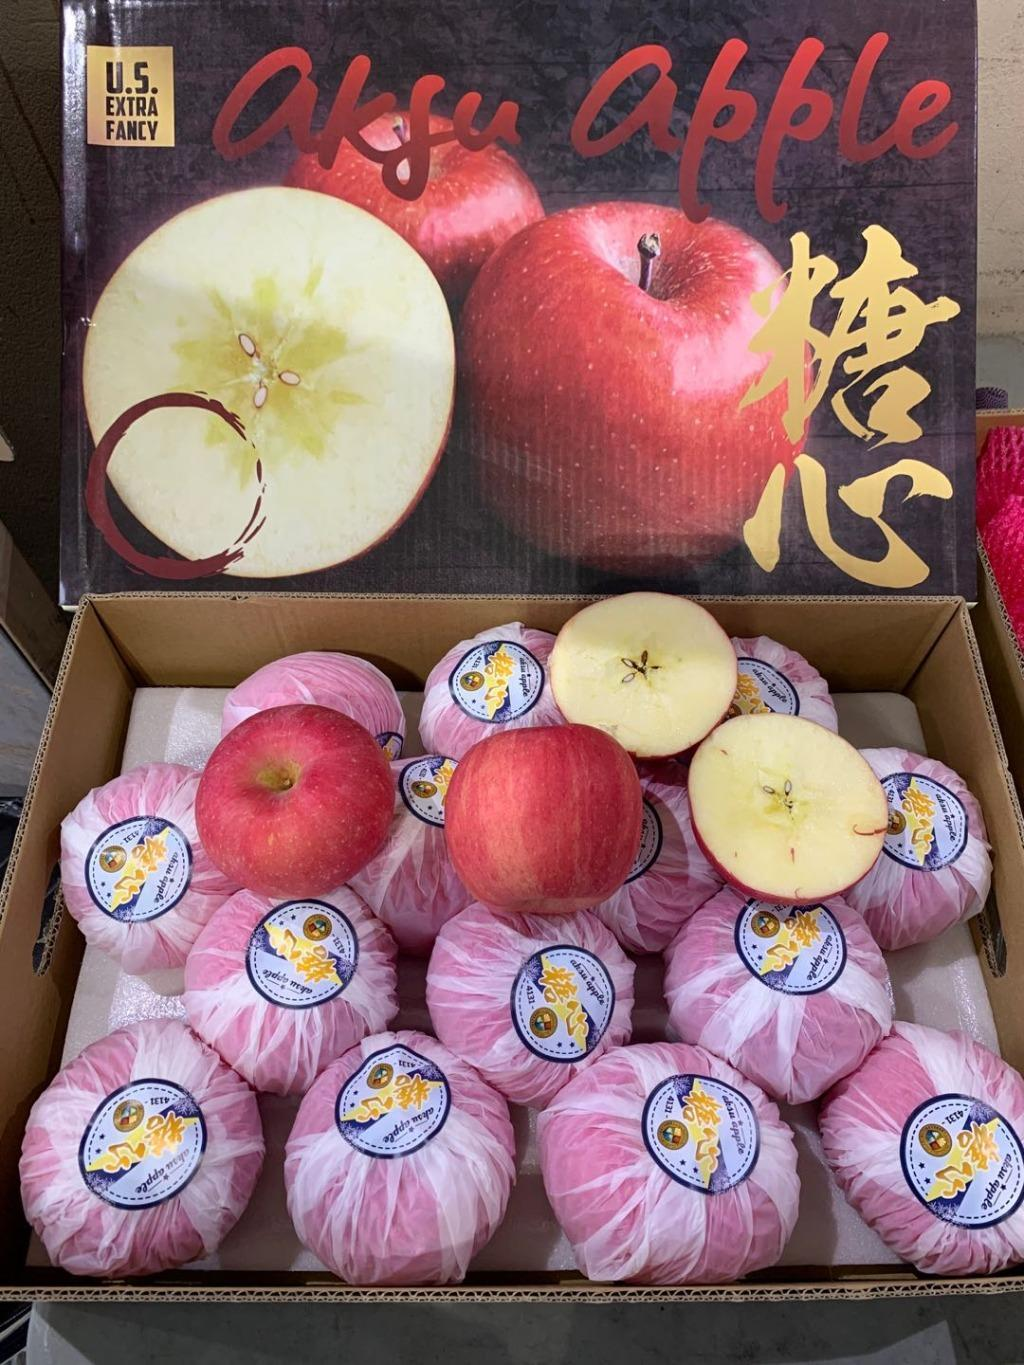apple: (468, 197, 808, 568), (193, 707, 395, 902), (437, 723, 648, 910)
